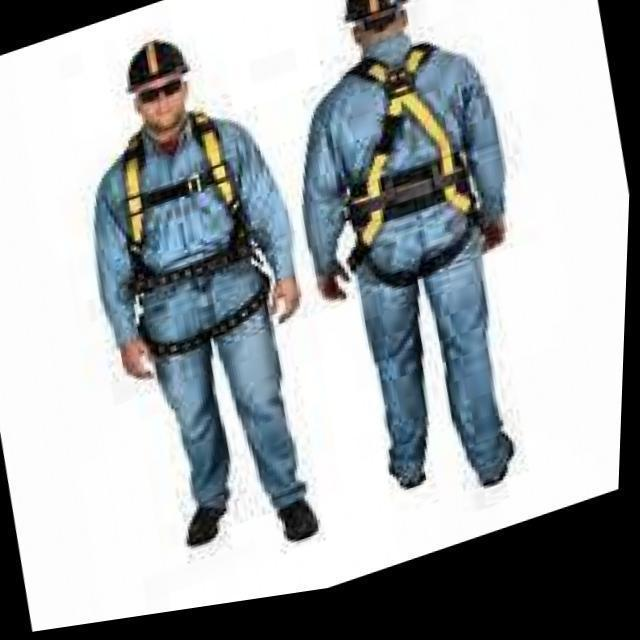Harness: (123, 113, 269, 357), (349, 46, 474, 268)
